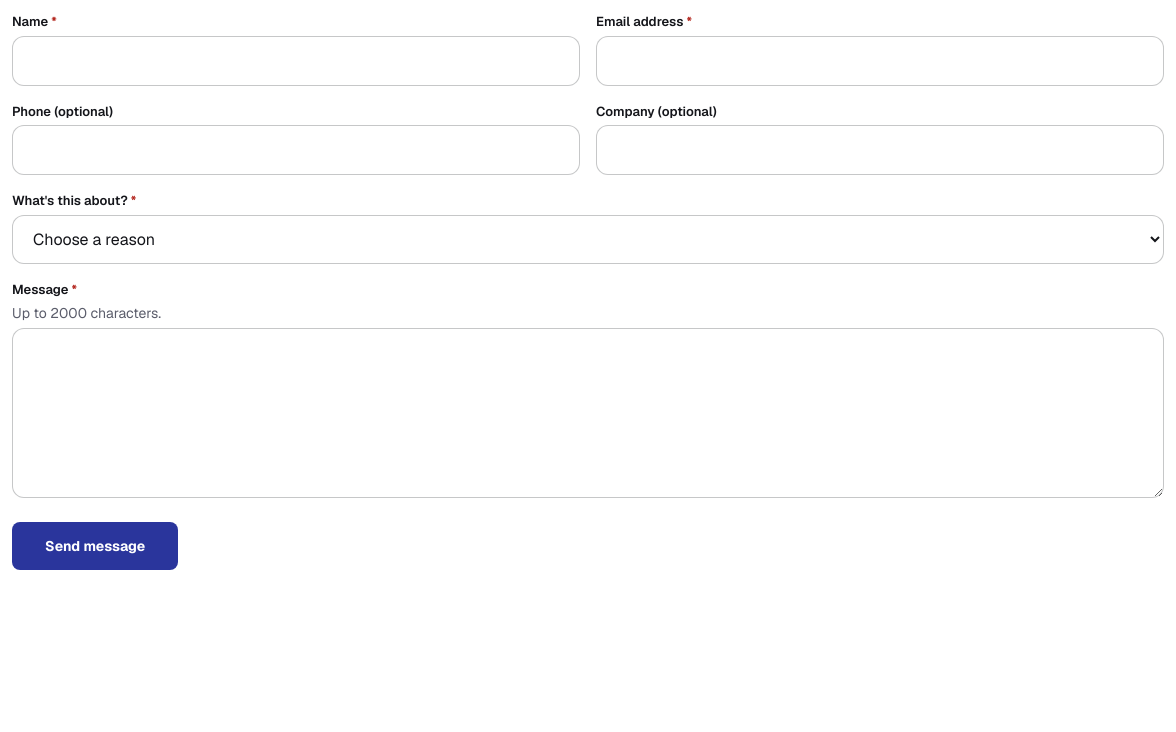
ContactForm › never shows a product field until Product question is selected
Expected: the field labelled "which product" is not shown
Select "Product question" in the dropdown labelled "What's this about? *": (588, 239) top-left (12, 214), bottom-right (1164, 264)
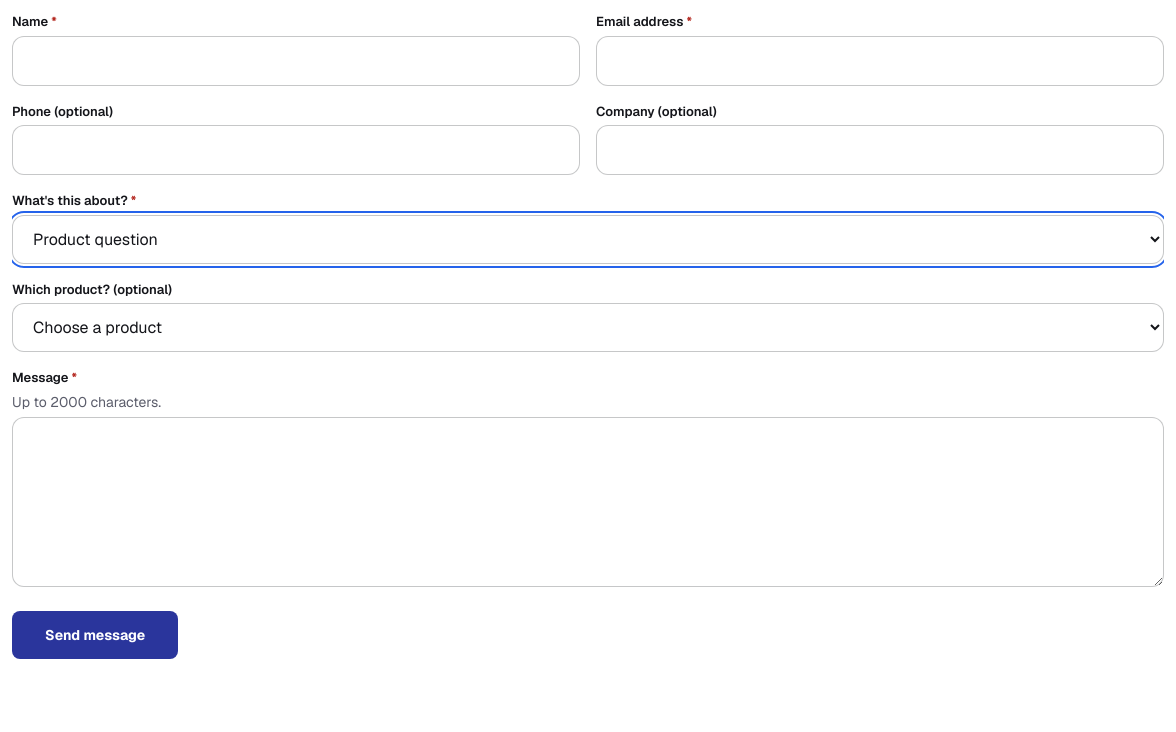
Result: the dropdown labelled "Which product? (optional)" is shown at top-left (12, 303), bottom-right (1164, 352)
